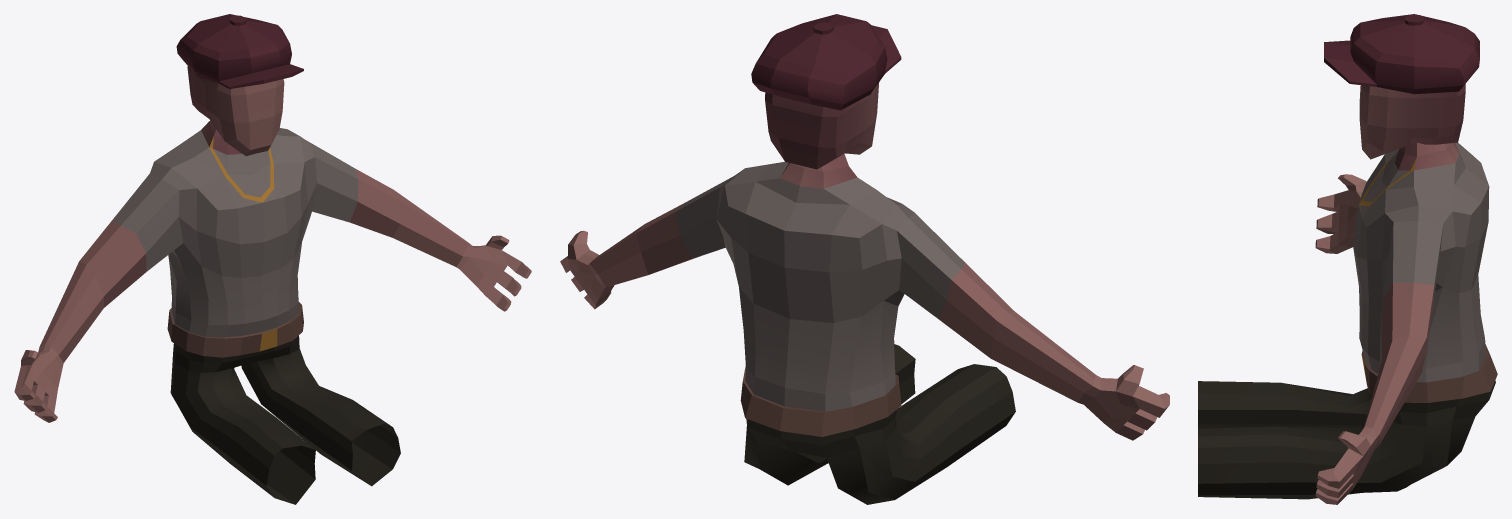
Rendered from BobSitting.fbx.
3 renders of one model, left to right at view 1: azimuth 30°, elevation 25°; view 2: azimuth 150°, elevation 25°; view 3: azimuth 270°, elevation 25°, orthographic. The views are drawn at different scales.
Visible parts, largest first — view 1: Character_Bob; view 2: Character_Bob; view 3: Character_Bob.
Part boxes in pixels (x1,y1,x2,y2): Character_Bob: [14, 14, 531, 504]; Character_Bob: [560, 14, 1169, 504]; Character_Bob: [1198, 14, 1497, 504].
Bounding box in the file's own units: 1.15 × 0.8796 × 0.518.
